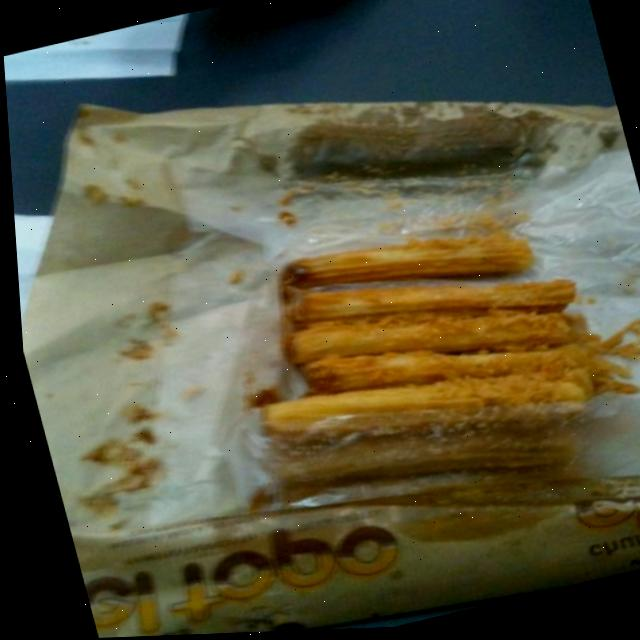炸货点心: (2, 17, 640, 640)
